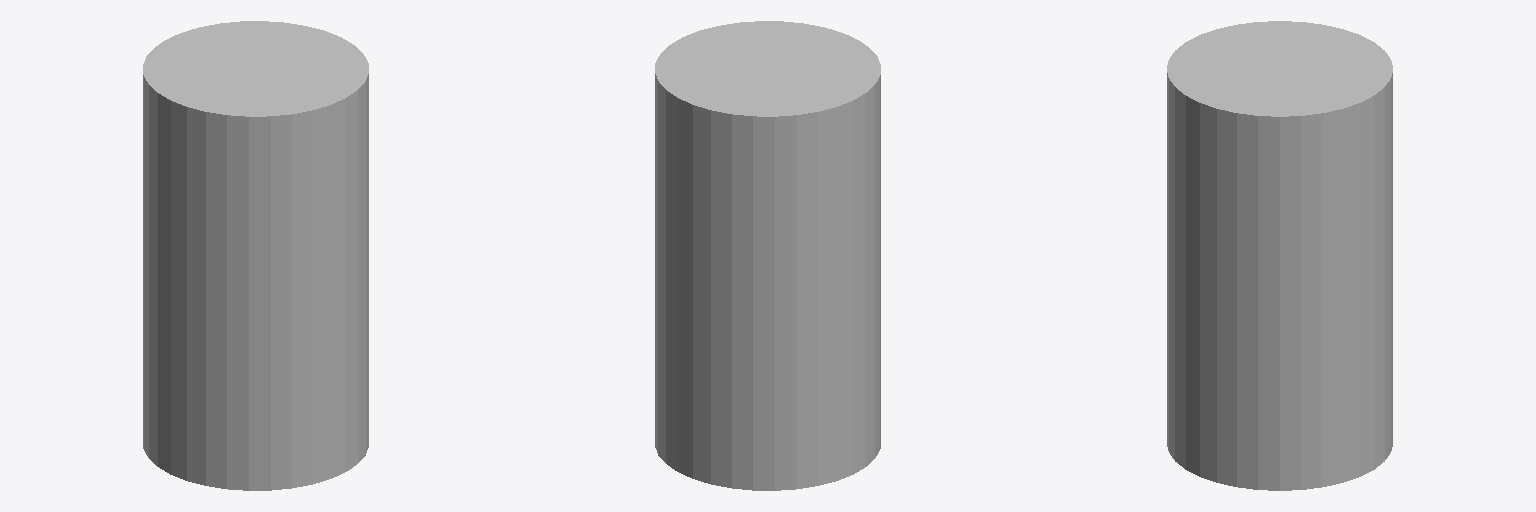
Rendered from WoodLog.obj.
The picture shows the model from 3 angles: view 1: azimuth 30°, elevation 25°; view 2: azimuth 150°, elevation 25°; view 3: azimuth 270°, elevation 25°; orthographic projection.
Parts seen in each view (by area): view 1: Cylinder.001_Cylinder.002; view 2: Cylinder.001_Cylinder.002; view 3: Cylinder.001_Cylinder.002.
Boxes of the visible parts, x1=… form: Cylinder.001_Cylinder.002: x1=143, y1=21, x2=368, y2=490; Cylinder.001_Cylinder.002: x1=655, y1=21, x2=880, y2=490; Cylinder.001_Cylinder.002: x1=1167, y1=21, x2=1392, y2=490.
Size of the model in its own units: 1.92 by 3.49 by 1.92.